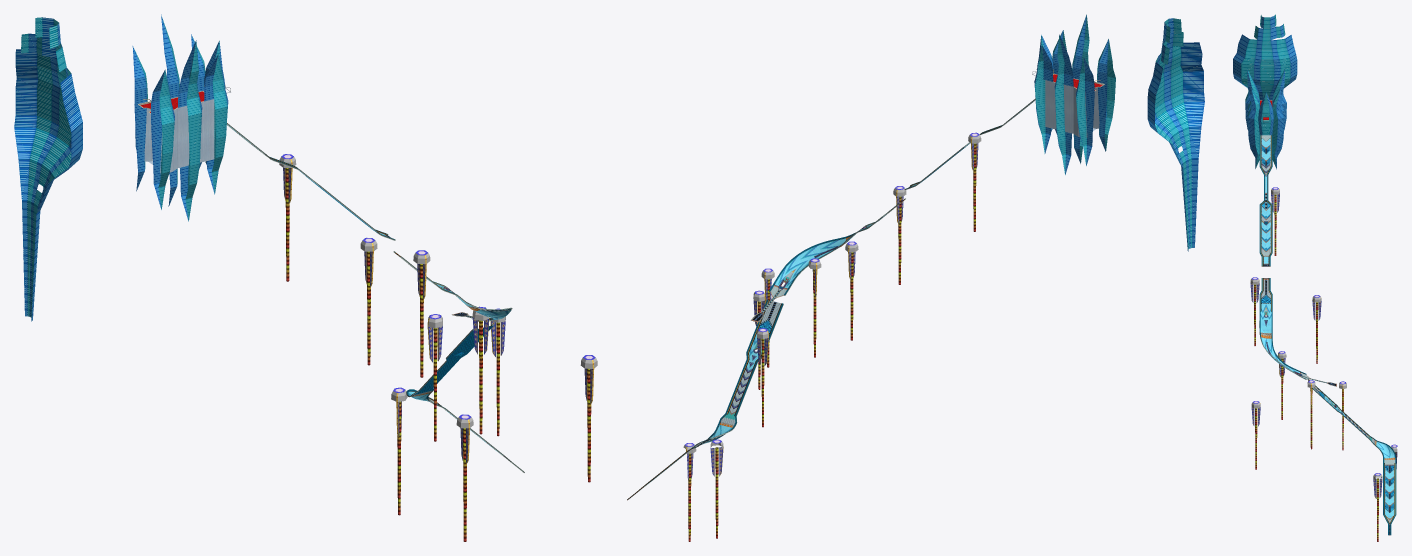
The model's file is Bingo_highway_7.obj.
3 views of the same model, side by side, from view 1: azimuth 30°, elevation 25°; view 2: azimuth 150°, elevation 25°; view 3: azimuth 270°, elevation 25° (orthographic). The views are drawn at different scales.
Visible parts, largest first — view 1: obj1, Object_2; view 2: obj1, Object_2; view 3: obj1, Object_2.
Boxes of the visible parts, x1=… form: obj1: x1=14, y1=14, x2=597, y2=472; Object_2: x1=235, y1=131, x2=591, y2=541; obj1: x1=627, y1=14, x2=1204, y2=500; Object_2: x1=650, y1=104, x2=1029, y2=541; obj1: x1=1233, y1=14, x2=1397, y2=535; Object_2: x1=1254, y1=135, x2=1395, y2=541.
Size of the model in its own units: 6897 by 7767 by 2979.
